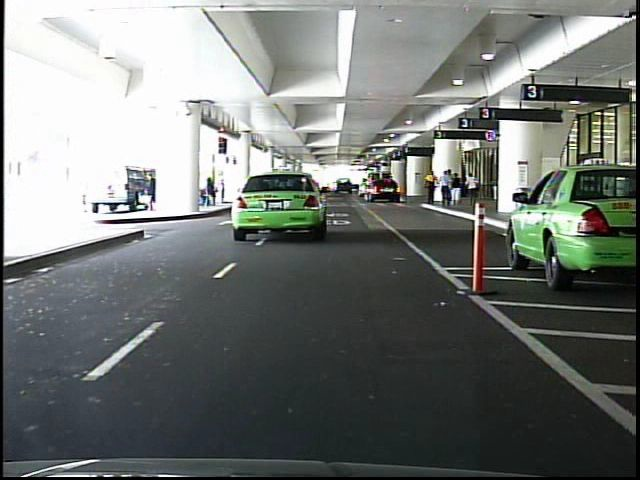person: (465, 169, 484, 210), (439, 165, 455, 211), (424, 166, 440, 208), (451, 172, 463, 212)
